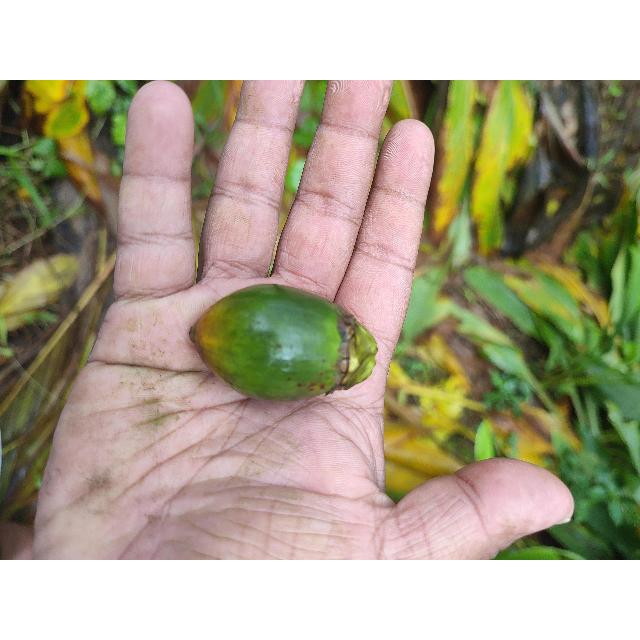damaged: (187, 284, 378, 402)
